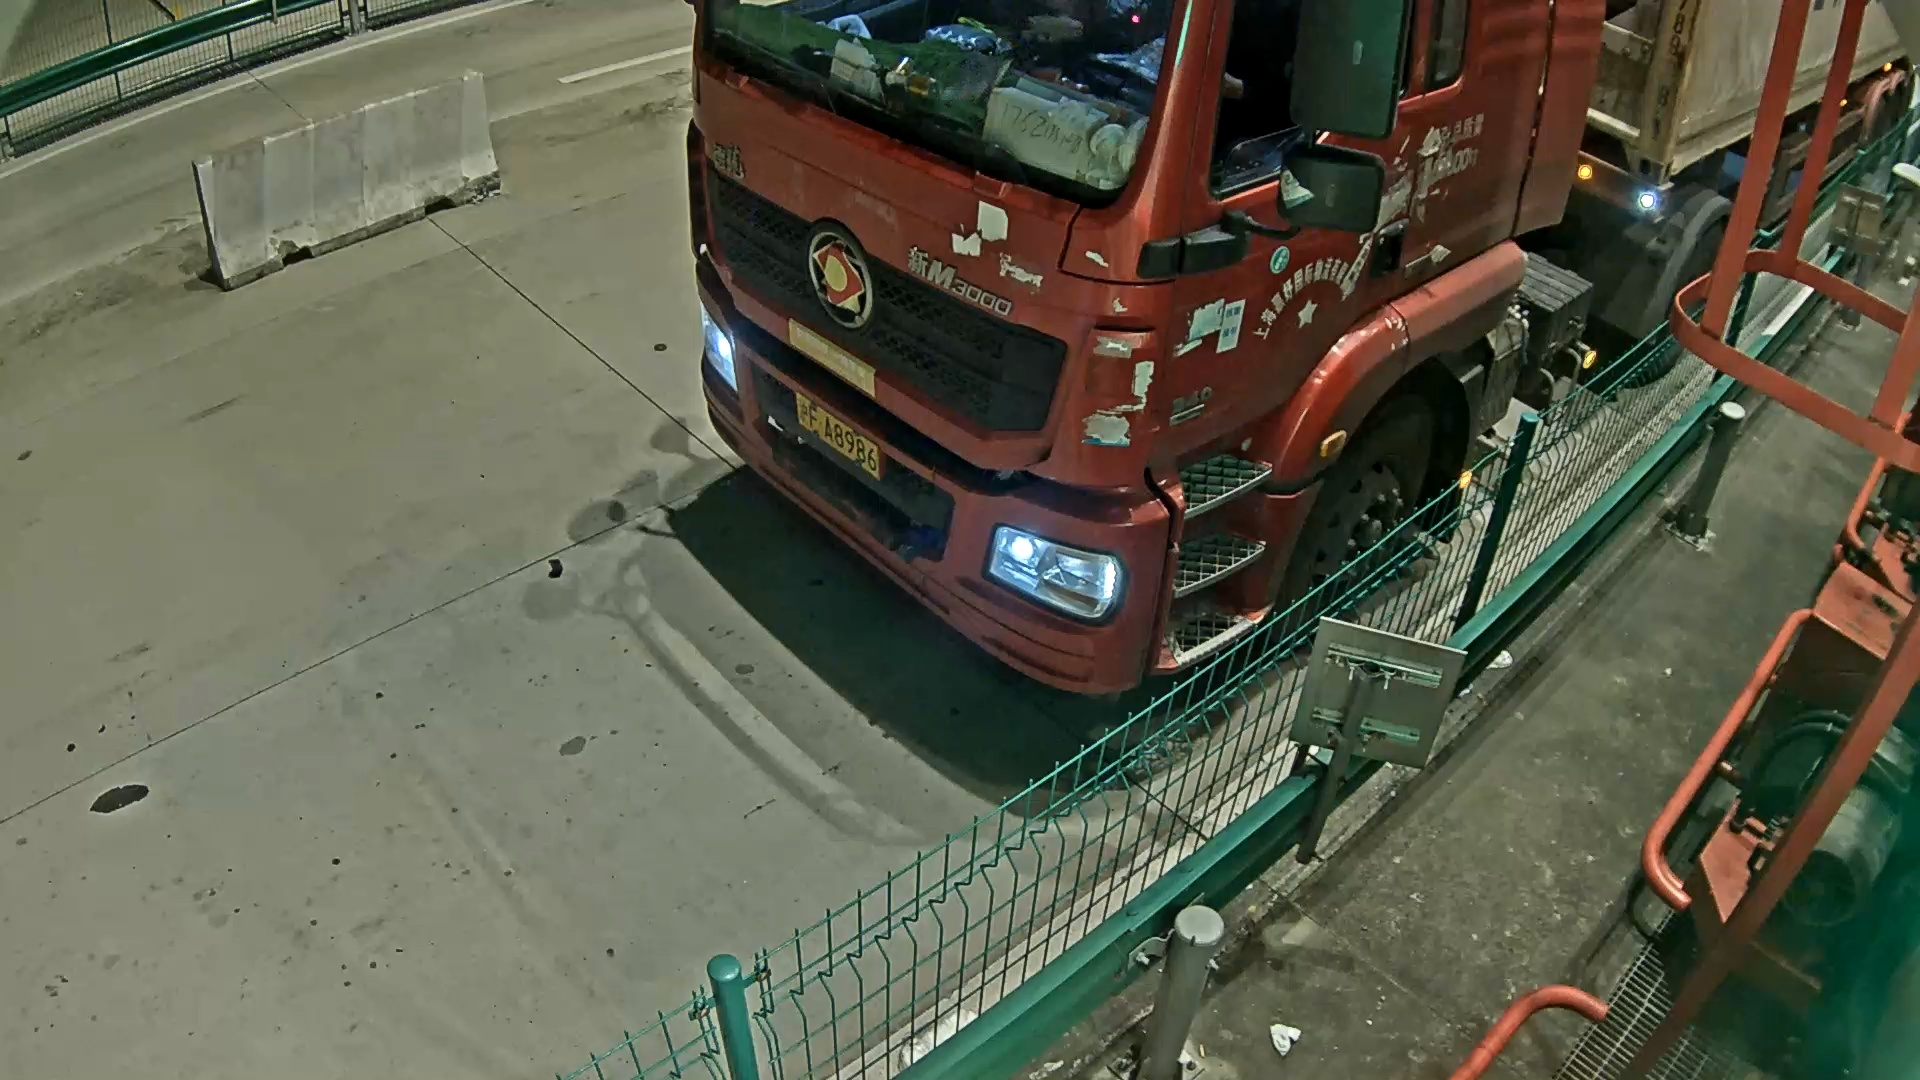head: (683, 26, 1255, 727)
plate: (781, 389, 910, 486)
